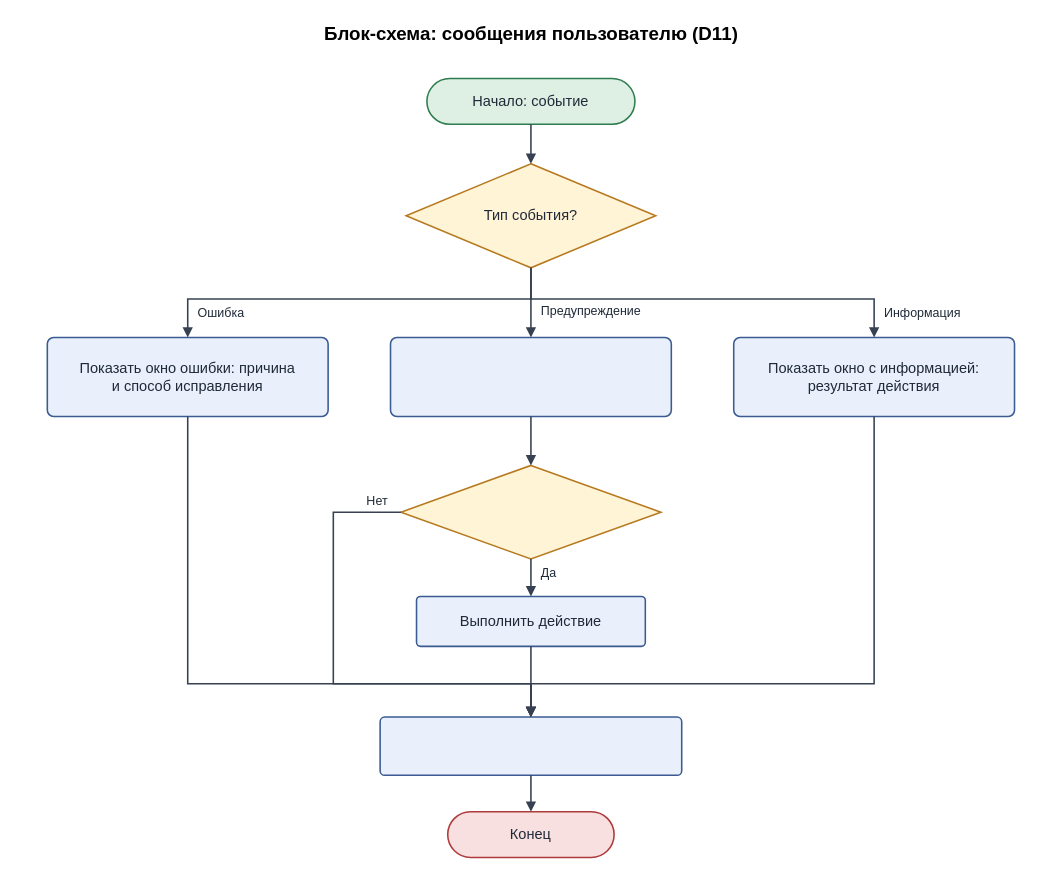
Image size: 1061x876. Some labels were removed from this diagram. Here are the shapes that lost their labels. From the top down, the box of each, then its label:
(389, 336, 672, 417): Показать предупреждение: последствия и запрос подтверждения
(400, 464, 661, 559): Пользователь подтвердил?
(379, 716, 682, 776): Вернуться к форме или каталогу
